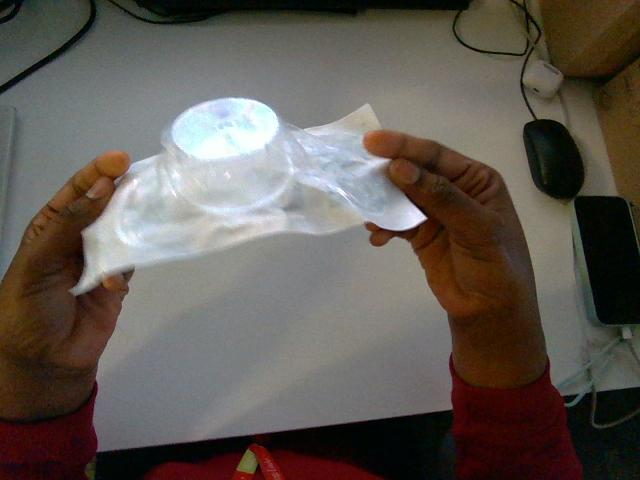gallipot: (72, 98, 424, 293)
